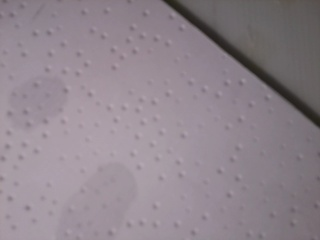Water_detected: (75, 166, 133, 231), (11, 76, 61, 130)
